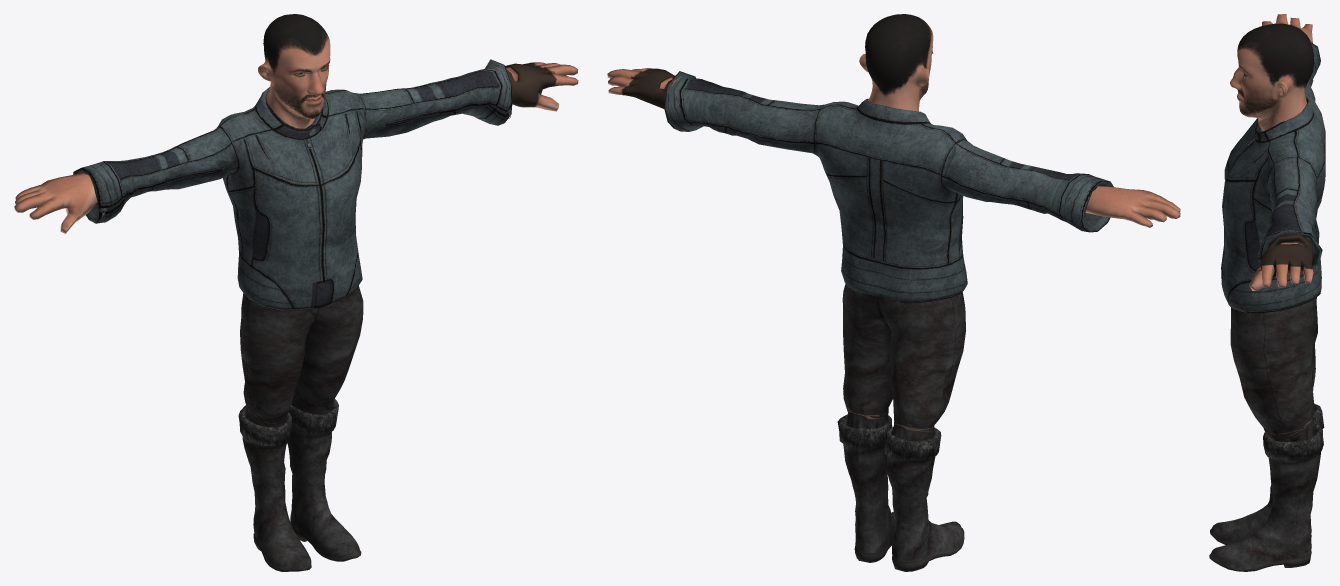
The model's file is male4.obj.
The picture shows the model from 3 angles, left to right: view 1: azimuth 30°, elevation 25°; view 2: azimuth 150°, elevation 25°; view 3: azimuth 270°, elevation 25°; orthographic projection. The views are drawn at different scales.
Parts seen in each view (by area): view 1: Tops, Bottoms, Shoes, Body; view 2: Tops, Bottoms, Shoes, Body; view 3: Tops, Bottoms, Body, Shoes.
Part boxes in pixels (<box>): Tops: <box>73,59,512,310</box>; Bottoms: <box>240,285,363,427</box>; Shoes: <box>238,399,361,571</box>; Body: <box>14,14,578,233</box>; Tops: <box>664,71,1113,303</box>; Bottoms: <box>842,284,965,441</box>; Shoes: <box>837,414,964,571</box>; Body: <box>607,14,1180,227</box>; Tops: <box>1221,42,1325,313</box>; Bottoms: <box>1230,297,1317,441</box>; Body: <box>1230,14,1314,290</box>; Shoes: <box>1209,403,1324,571</box>.
Size of the model in its own units: 206 by 185 by 37.23.
Materials: 4 (4 with a texture image).
